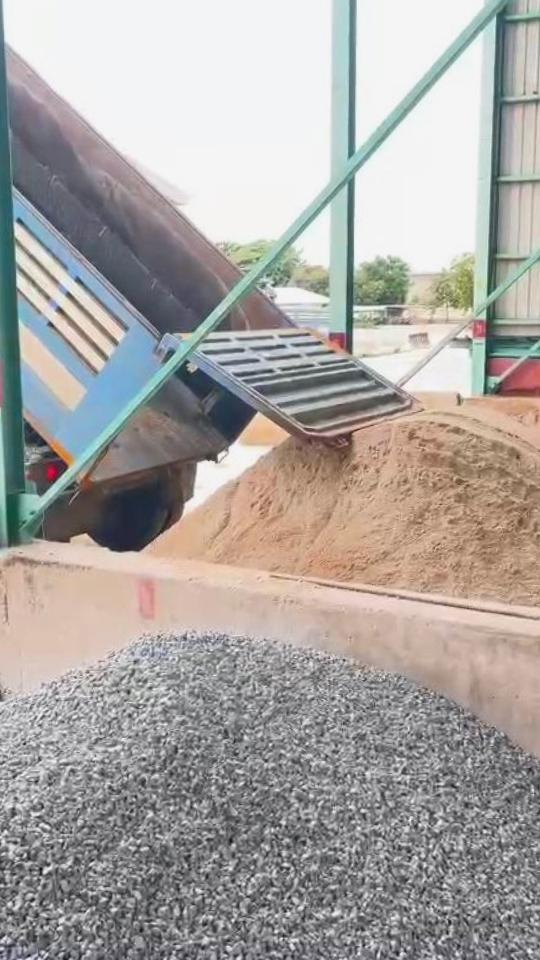gravel: (0, 635, 540, 960), (0, 677, 5, 728)
sand: (153, 412, 540, 613), (498, 398, 540, 456)
